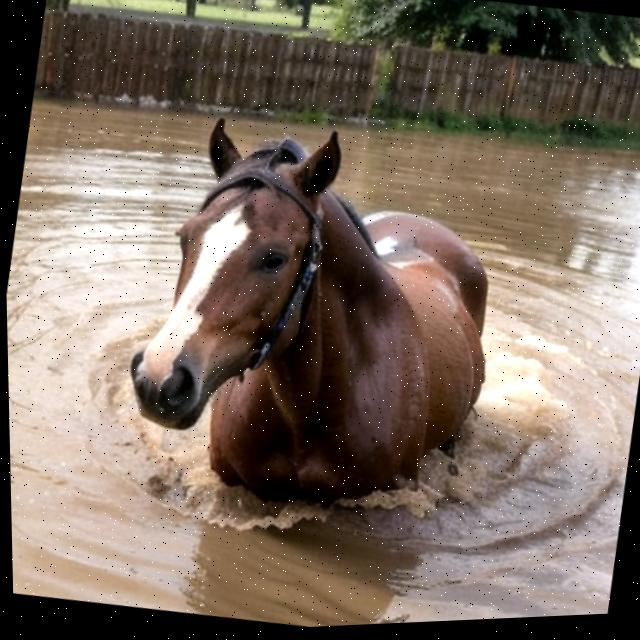horse: (71, 73, 555, 587)
